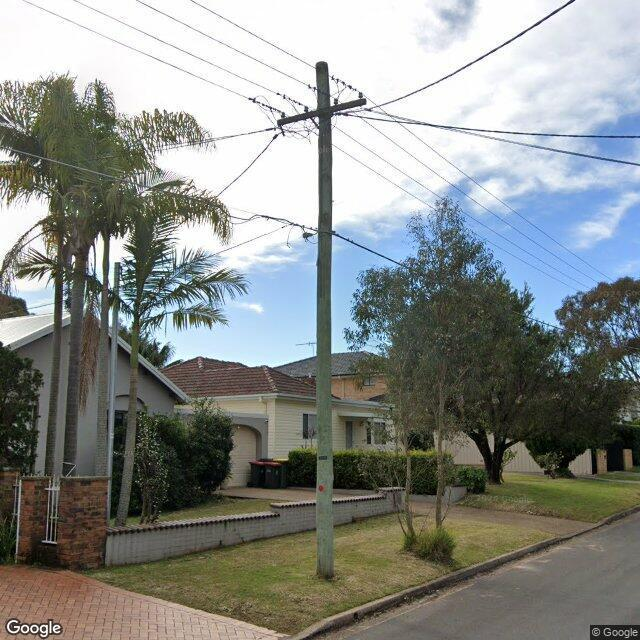crossarm: (277, 98, 368, 128)
steel-pole: (105, 261, 123, 521)
timber-pole: (313, 61, 335, 580)
